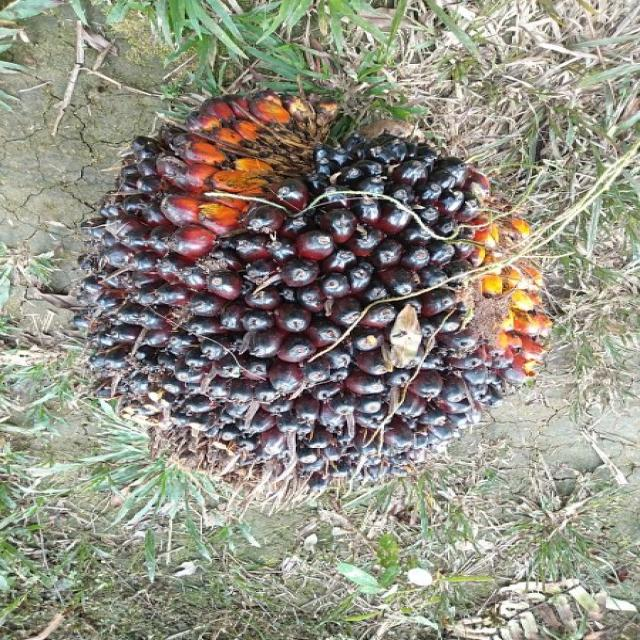fraksi 00: (8, 42, 608, 534)
